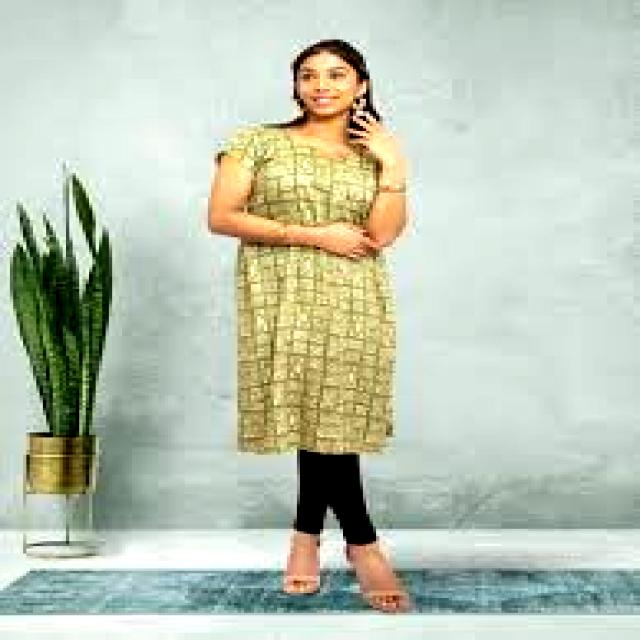dress: (235, 240, 395, 454)
